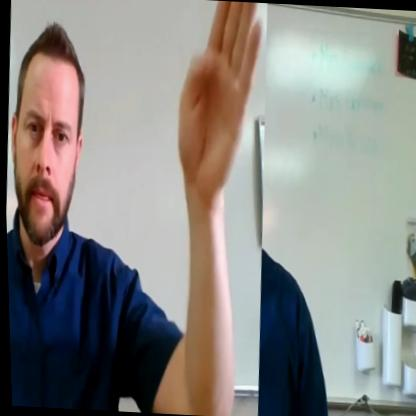Hello: (0, 0, 276, 416)
